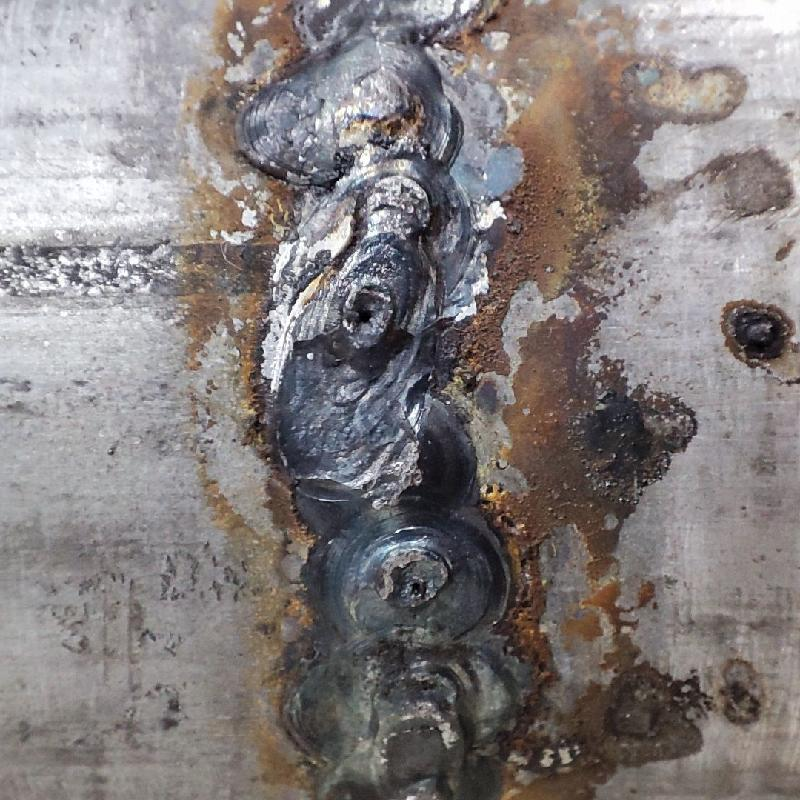Surface_pores: (374, 551, 441, 607), (345, 287, 383, 345)
wrong_size: (257, 1, 519, 793)
